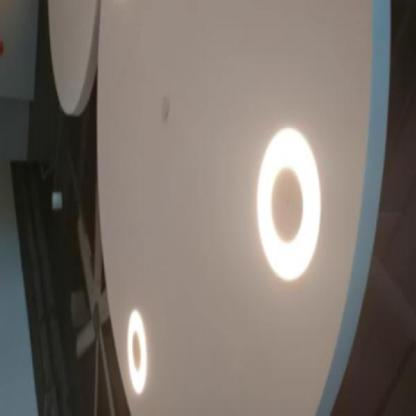light_on: (249, 107, 332, 312), (119, 290, 155, 403)
